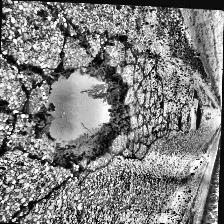pothole: (35, 48, 138, 170), (190, 102, 204, 127)
